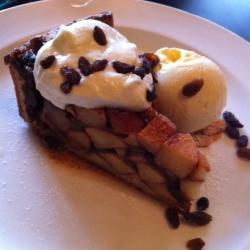apple_pie: (3, 12, 211, 220)
chantilly: (35, 19, 160, 112)
icecream: (143, 42, 232, 138)
